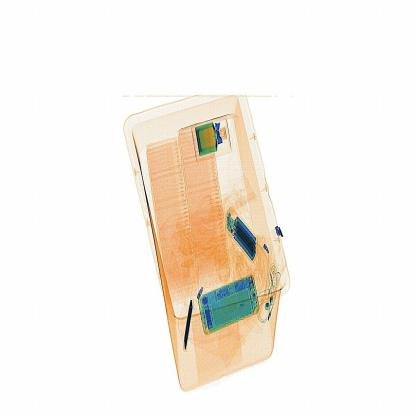wrench: (182, 302, 196, 352)
